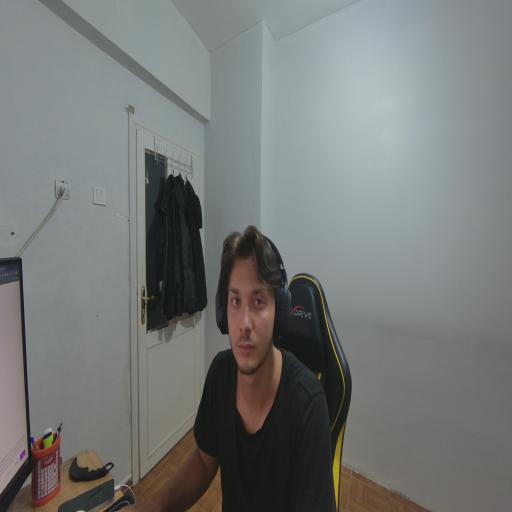cuma-face-v2: (198, 190, 284, 387)
